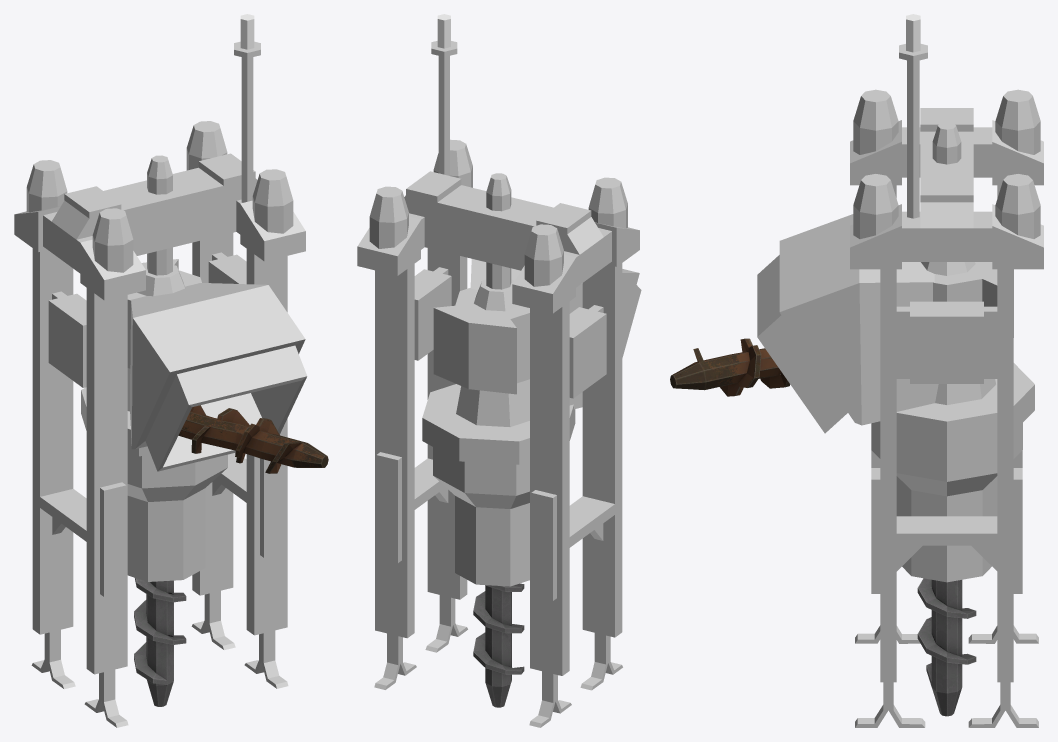
File: RapidAutoMiner.glb
3 views of the same model, side by side, from view 1: azimuth 30°, elevation 25°; view 2: azimuth 150°, elevation 25°; view 3: azimuth 270°, elevation 25° (orthographic). The views are drawn at different scales.
Parts seen in each view (by area): view 1: BasicAutoMiner_Col, DrillBit_EjectPoint, DrillBit_Equipped; view 2: BasicAutoMiner_Col, DrillBit_Equipped; view 3: BasicAutoMiner_Col, DrillBit_Equipped, DrillBit_EjectPoint.
Boxes of the visible parts, box(x1,y1,x2,y2) form: BasicAutoMiner_Col: box(14, 14, 307, 727); DrillBit_EjectPoint: box(178, 405, 328, 473); DrillBit_Equipped: box(134, 578, 186, 706); BasicAutoMiner_Col: box(357, 14, 641, 727); DrillBit_Equipped: box(473, 583, 524, 707); BasicAutoMiner_Col: box(757, 14, 1043, 727); DrillBit_Equipped: box(917, 578, 976, 716); DrillBit_EjectPoint: box(670, 338, 790, 396).
Size of the model in its own units: 1.24 by 3.99 by 1.85.
Materials: 3 (1 with a texture image).
